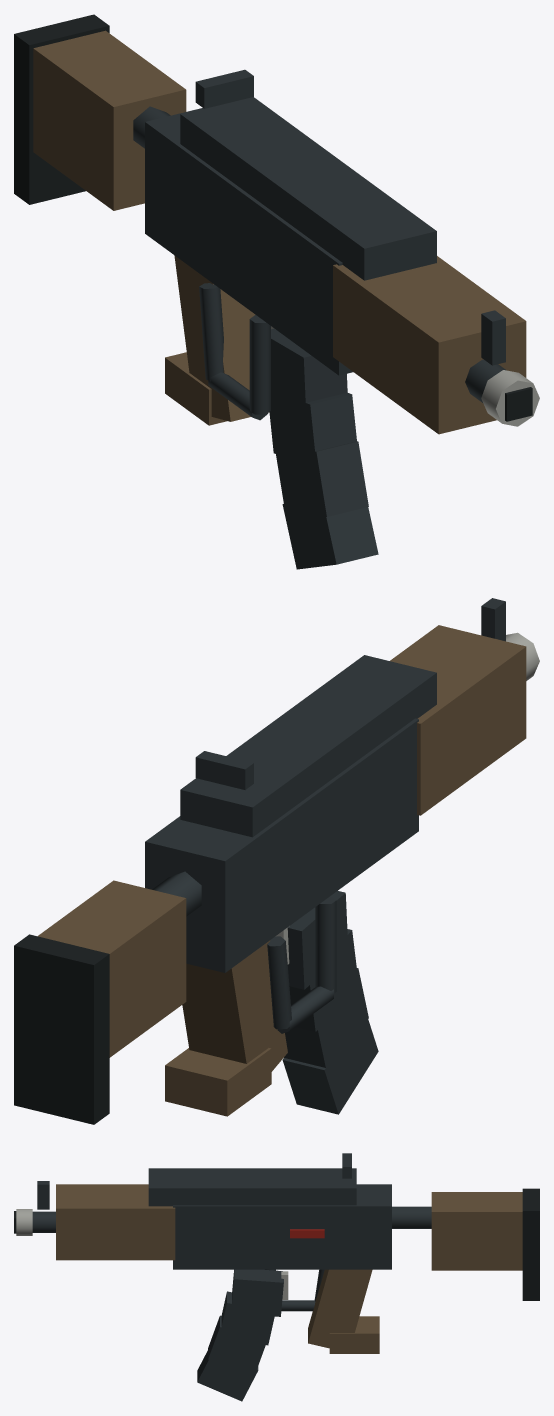
3 views of the same model, one above another, from view 1: azimuth 30°, elevation 25°; view 2: azimuth 150°, elevation 25°; view 3: azimuth 270°, elevation 25° (orthographic). The views are drawn at different scales.
Visible parts, largest first — view 1: weapon-rifle-ak-painted; view 2: weapon-rifle-ak-painted; view 3: weapon-rifle-ak-painted.
Part boxes in pixels (left/top/right/bottom): weapon-rifle-ak-painted: left=14, top=14, right=539, bottom=569; weapon-rifle-ak-painted: left=14, top=598, right=539, bottom=1124; weapon-rifle-ak-painted: left=14, top=1153, right=539, bottom=1401.
Size of the model in its own units: 0.5154 by 2.34 by 4.74.
